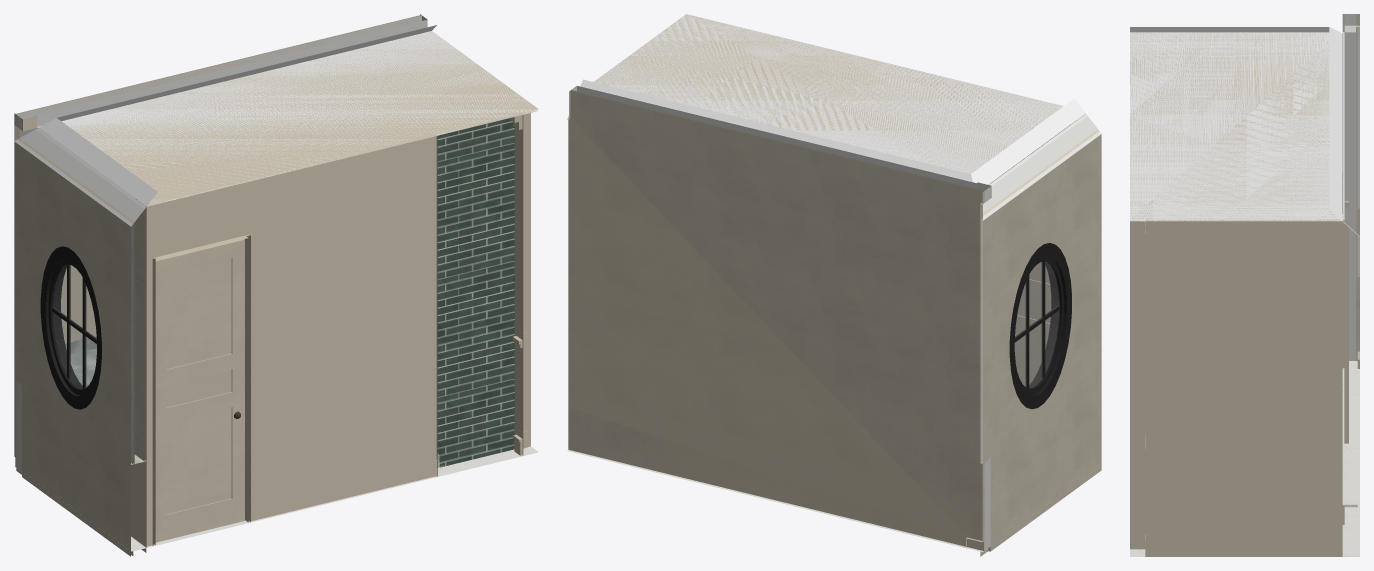
Rendered from green-bath-b49d0ac45077.glb.
3 views of the same model, side by side, from view 1: azimuth 30°, elevation 25°; view 2: azimuth 150°, elevation 25°; view 3: azimuth 270°, elevation 25° (orthographic). The views are drawn at different scales.
Parts seen in each view (by area): view 1: green-bath-b6ab44e8ab2b63f4, green-bath-e8793759323e04f0, green-bath-9d91b47435c6fb33, green-bath-235bf0030923b7b8, green-bath-5e646f76b0244fe8, green-bath-312b4ac1be39223d, green-bath-33ee0b466567e5f0, green-bath-45debf23193247f8, green-bath-9a6873bb27e0e1d8, green-bath-8d8280a2b3ef8b4c, green-bath-3a4d9d62ecd7be1c, green-bath-39b94aca90fa4b53 (+6 smaller); view 2: green-bath-bd62734a7bc60eb7, green-bath-ca9c0b57f88e5741, green-bath-9d91b47435c6fb33, green-bath-e8793759323e04f0, green-bath-312b4ac1be39223d, green-bath-33ee0b466567e5f0, green-bath-45debf23193247f8, green-bath-9a6873bb27e0e1d8, green-bath-5e646f76b0244fe8, green-bath-39b94aca90fa4b53, green-bath-6ffca0ecbe7bb20f; view 3: green-bath-4fe5579be934d30a, green-bath-9d91b47435c6fb33, green-bath-e8793759323e04f0, green-bath-689020e0fc226264, green-bath-6ffca0ecbe7bb20f, green-bath-39b94aca90fa4b53, green-bath-7261ca91c9d343ad, green-bath-9a6873bb27e0e1d8, green-bath-82fe871d7bda5383, green-bath-312b4ac1be39223d, green-bath-6852ef8a5e690845, green-bath-bd62734a7bc60eb7 (+1 smaller).
Part boxes in pixels (x1=…): green-bath-b6ab44e8ab2b63f4: x1=138, y1=136, x2=437, y2=547; green-bath-e8793759323e04f0: x1=42, y1=25, x2=537, y2=204; green-bath-9d91b47435c6fb33: x1=39, y1=31, x2=537, y2=206; green-bath-235bf0030923b7b8: x1=437, y1=118, x2=513, y2=467; green-bath-5e646f76b0244fe8: x1=155, y1=239, x2=244, y2=542; green-bath-312b4ac1be39223d: x1=14, y1=125, x2=133, y2=464; green-bath-33ee0b466567e5f0: x1=22, y1=386, x2=146, y2=556; green-bath-45debf23193247f8: x1=40, y1=246, x2=101, y2=409; green-bath-9a6873bb27e0e1d8: x1=16, y1=15, x2=427, y2=471; green-bath-8d8280a2b3ef8b4c: x1=515, y1=109, x2=538, y2=455; green-bath-3a4d9d62ecd7be1c: x1=35, y1=127, x2=146, y2=461; green-bath-39b94aca90fa4b53: x1=19, y1=128, x2=144, y2=463; green-bath-bd62734a7bc60eb7: x1=567, y1=91, x2=983, y2=547; green-bath-ca9c0b57f88e5741: x1=568, y1=90, x2=984, y2=550; green-bath-9d91b47435c6fb33: x1=594, y1=14, x2=1085, y2=184; green-bath-e8793759323e04f0: x1=580, y1=14, x2=1083, y2=183; green-bath-312b4ac1be39223d: x1=981, y1=131, x2=1101, y2=463; green-bath-33ee0b466567e5f0: x1=988, y1=377, x2=1101, y2=551; green-bath-45debf23193247f8: x1=1009, y1=243, x2=1071, y2=409; green-bath-9a6873bb27e0e1d8: x1=571, y1=86, x2=990, y2=550; green-bath-5e646f76b0244fe8: x1=988, y1=163, x2=1051, y2=386; green-bath-39b94aca90fa4b53: x1=982, y1=116, x2=1097, y2=213; green-bath-6ffca0ecbe7bb20f: x1=567, y1=450, x2=983, y2=551; green-bath-4fe5579be934d30a: x1=1145, y1=214, x2=1342, y2=556; green-bath-9d91b47435c6fb33: x1=1130, y1=32, x2=1342, y2=221; green-bath-e8793759323e04f0: x1=1130, y1=27, x2=1340, y2=219; green-bath-689020e0fc226264: x1=1130, y1=221, x2=1145, y2=549; green-bath-6ffca0ecbe7bb20f: x1=1130, y1=361, x2=1359, y2=556; green-bath-39b94aca90fa4b53: x1=1344, y1=28, x2=1355, y2=282; green-bath-7261ca91c9d343ad: x1=1344, y1=201, x2=1348, y2=443; green-bath-9a6873bb27e0e1d8: x1=1344, y1=14, x2=1355, y2=556; green-bath-82fe871d7bda5383: x1=1342, y1=14, x2=1344, y2=556; green-bath-312b4ac1be39223d: x1=1357, y1=26, x2=1359, y2=276; green-bath-6852ef8a5e690845: x1=1356, y1=27, x2=1357, y2=277; green-bath-bd62734a7bc60eb7: x1=1357, y1=14, x2=1359, y2=368.
Bounding box in the file's own units: 3.62 × 3.04 × 1.8.
Materials: 27 (6 with a texture image).
